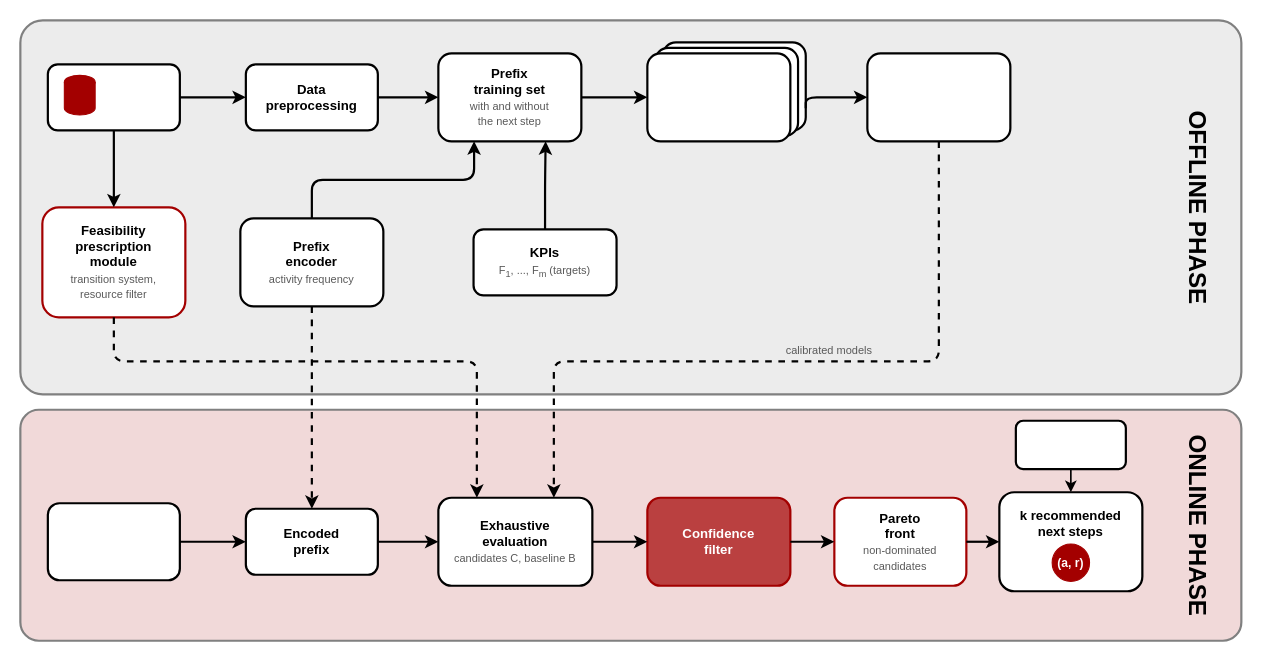
Image size: 1261x660. Some labels were removed from this diagram. Each missing label, with the box of its shape:
Calibration: (866, 52, 1011, 142)
Event log: (46, 63, 180, 131)
One model per KPI ensemble of M members: (646, 52, 791, 142)
Running execution prefix σ (k): (46, 502, 180, 581)
Selection rule: (1014, 419, 1126, 470)
